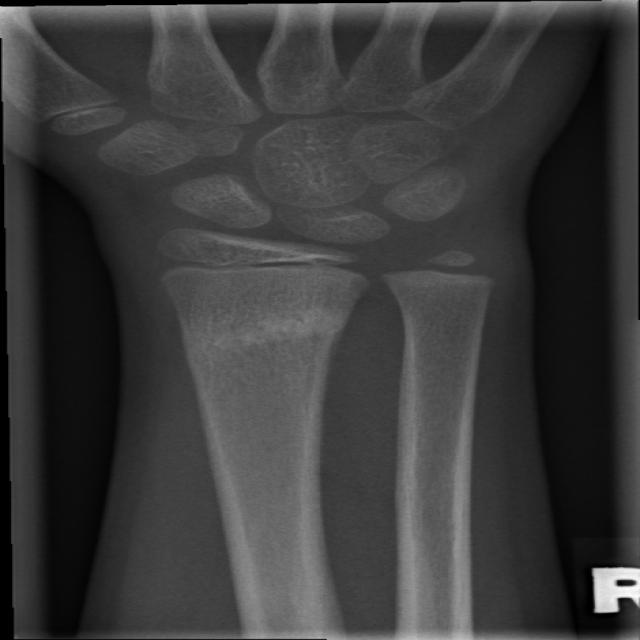radius fracture: (133, 293, 384, 445)
